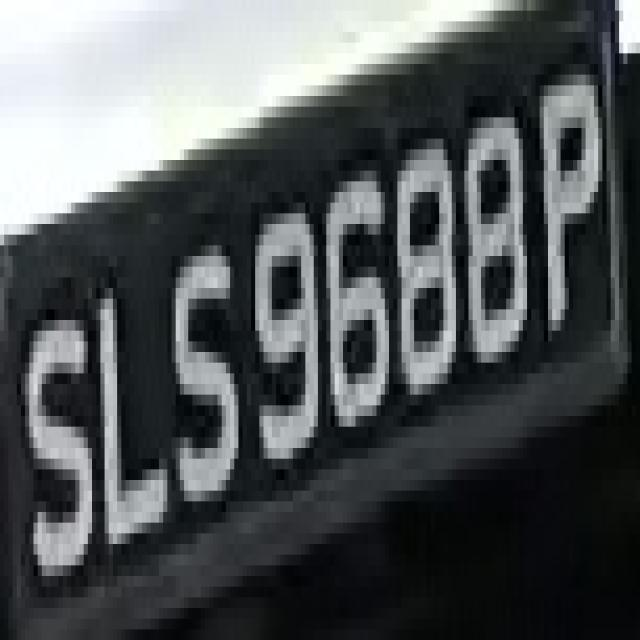6: (314, 150, 393, 438)
8: (381, 107, 468, 405), (452, 75, 527, 373)
9: (251, 170, 318, 490)
L: (84, 235, 167, 576)
P: (523, 54, 611, 342)
S: (155, 202, 247, 522), (17, 266, 92, 586)
